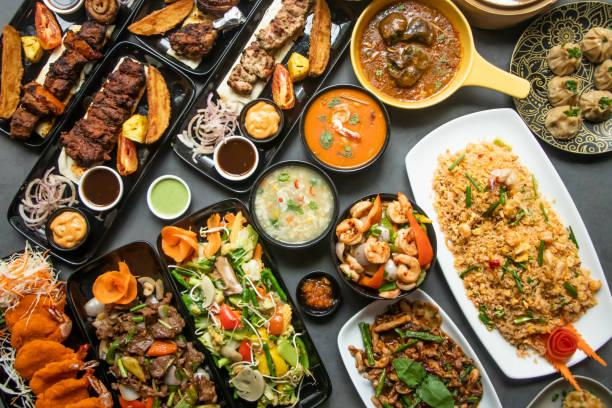Braised Crucian Carp: (403, 108, 610, 376), (5, 41, 195, 255), (152, 202, 331, 408), (180, 0, 353, 185), (65, 243, 230, 408), (508, 0, 611, 158), (352, 0, 484, 110), (350, 302, 481, 406), (123, 0, 267, 80), (334, 191, 436, 299), (299, 83, 385, 176), (248, 160, 334, 249)
